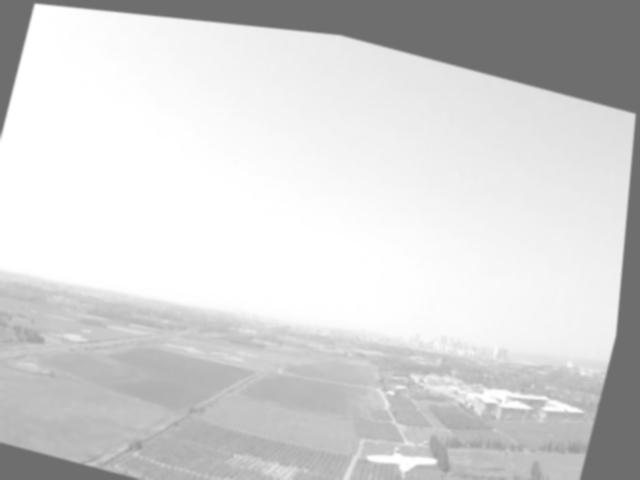hedef: (365, 424, 458, 480)
